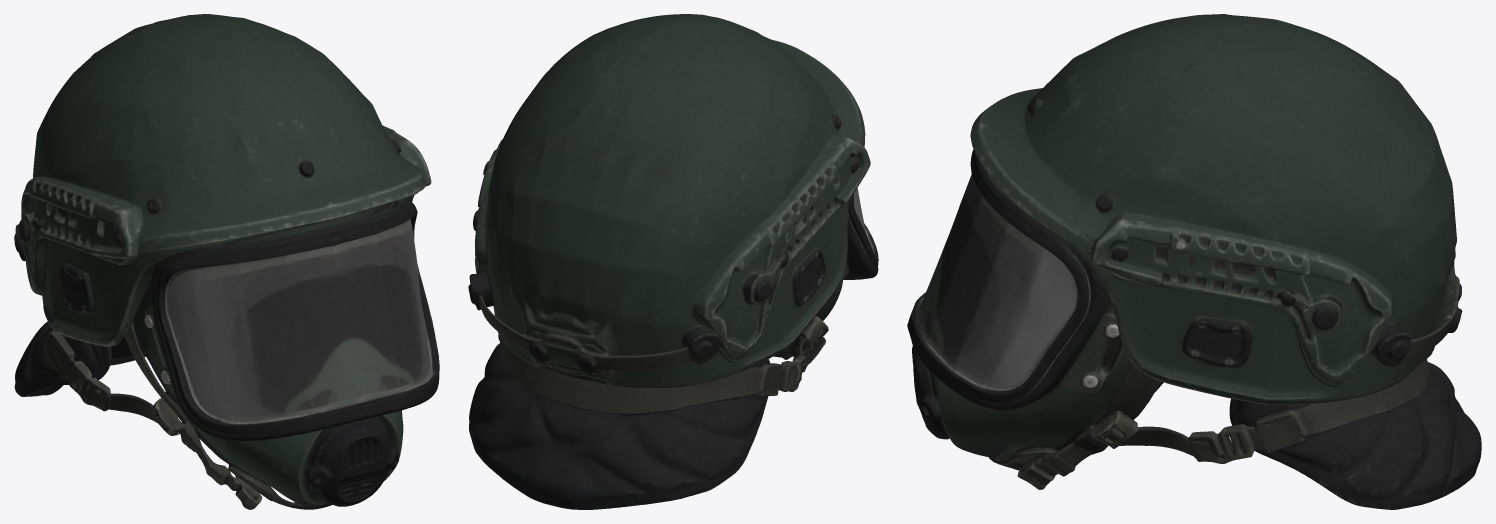
File: casco.glb
The picture shows the model from 3 angles, left to right: view 1: azimuth 30°, elevation 25°; view 2: azimuth 150°, elevation 25°; view 3: azimuth 270°, elevation 25°; orthographic projection. The views are drawn at different scales.
Bounding box in the file's own units: 1.3 × 1.58 × 1.9.
1 material, 1 textured.
